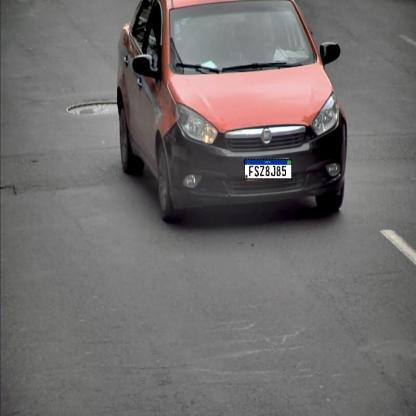PlacaM: (244, 158, 292, 180)
